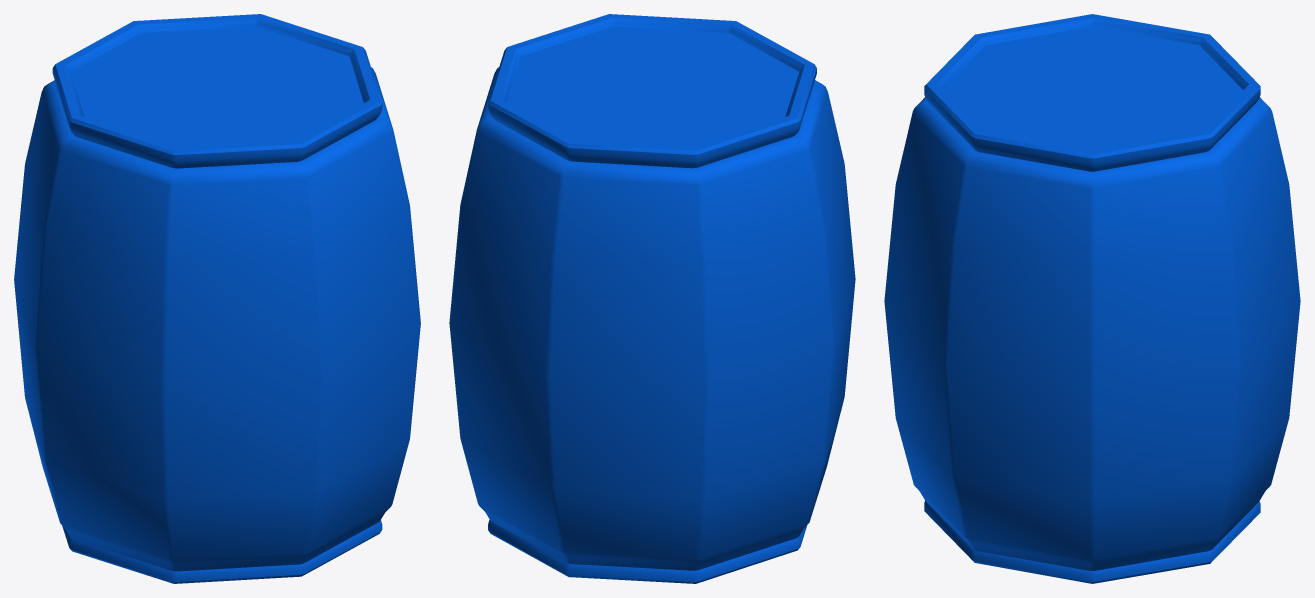
File: SM_Castle_Barrel.fbx
3 renders of one model, left to right at view 1: azimuth 30°, elevation 25°; view 2: azimuth 150°, elevation 25°; view 3: azimuth 270°, elevation 25°, orthographic.
Parts seen in each view (by area): view 1: Barrel; view 2: Barrel; view 3: Barrel.
Part boxes in pixels (bbox=[...]): Barrel: bbox=[14, 14, 420, 583]; Barrel: bbox=[449, 14, 855, 583]; Barrel: bbox=[884, 14, 1300, 583].
Bounding box in the file's own units: 233 × 266 × 233.
